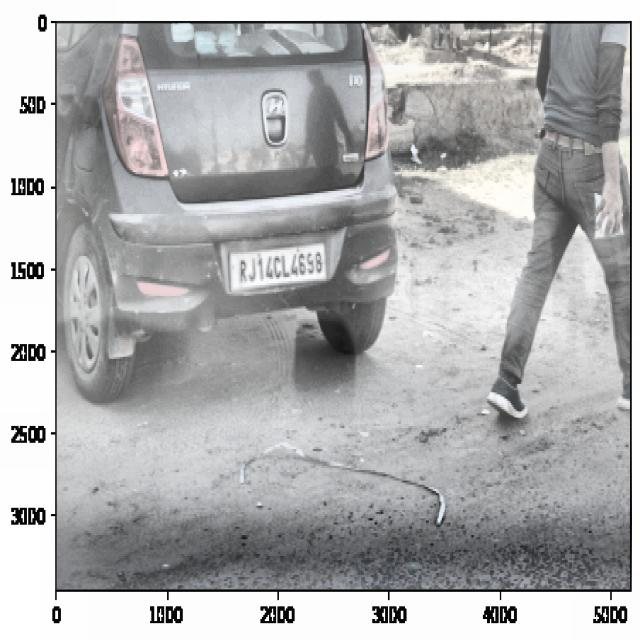license_plate: (235, 244, 328, 286)
